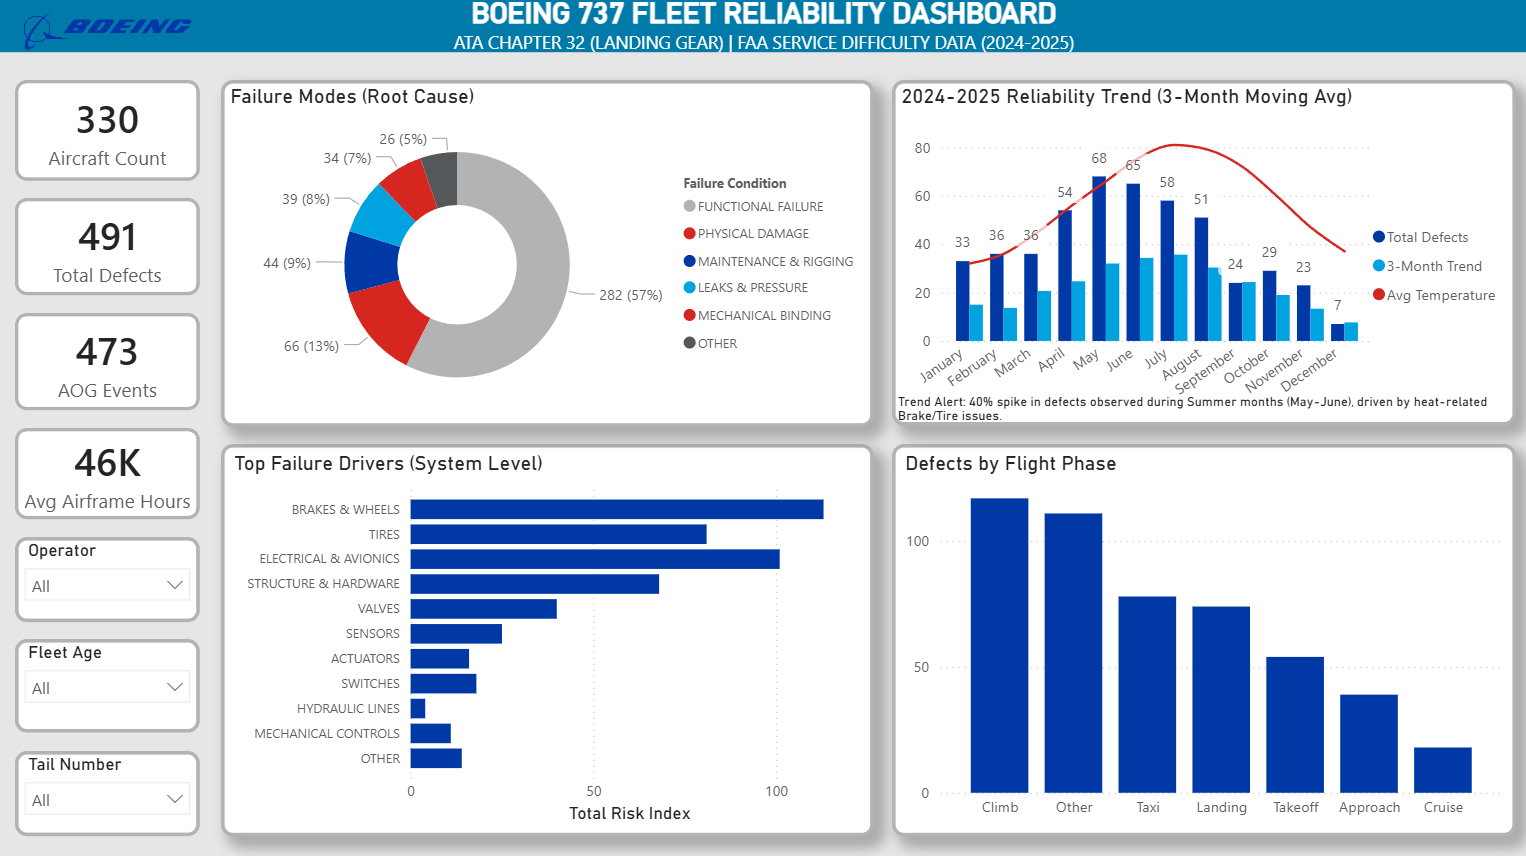

The page's visual inventory and layout, read from the dashboard file:
{"tool":"powerbi","page":{"name":"Main","canvas":[1280,720],"ordinal":0},"visuals":[{"type":"clusteredBarChart","title":"Top Failure Drivers (System Level)","fields":{"Category":["aviation_project sdr_landing_gear.PartName (groups)"],"Y":["_key_measures.Total Defects"]},"box":[187.8,372.2,544.4,326.7],"z":1000},{"type":"slicer","title":"Filter by Operator","fields":{"Values":["aviation_project sdr_landing_gear.OperatorDesignator"]},"box":[16,449.7,154,71],"z":2000},{"type":"donutChart","title":"Failure Modes (Root Cause)","fields":{"Y":["_key_measures.Total Defects"],"Category":["aviation_project sdr_landing_gear.PartCondition (groups)"]},"box":[187.8,68.9,544.4,288.9],"z":3000},{"type":"shape","title":"BOEING 737 FLEET RELIABILITY DASHBOARD","box":[0,0,1280,45.6],"z":4000},{"type":"image","box":[15.6,0,154.4,45.6],"z":5000},{"type":"columnChart","title":"Defects by Flight Phase","fields":{"Y":["_key_measures.Total Defects"],"Category":["aviation_project sdr_landing_gear.StageOfOperationCode (groups)"]},"box":[746.7,372.2,520,326.7],"z":6000},{"type":"cardVisual","fields":{"Data":["_key_measures.Aircraft Count"]},"box":[16,69,154,84],"z":7000},{"type":"cardVisual","title":"Avg. Airframe Hours","fields":{"Data":["_key_measures.Avg Airframe Age"]},"box":[16,359.1,154,76],"z":8000},{"type":"lineClusteredColumnComboChart","title":"2024-2025 Reliability Trend (3-Month Moving Avg)","fields":{"Category":["DateTable.Date.Variation.Date Hierarchy.Month"],"Y":["_key_measures.Total Defects","_key_measures.3-Month Trend"],"Y2":["Sum(US_Temp_Data.AvgTemp)"]},"box":[746.9,69.2,520,288.5],"z":9000},{"type":"cardVisual","fields":{"Data":["_key_measures.Total Defects"]},"box":[15.6,167.6,154.4,81.1],"z":10000},{"type":"slicer","title":"Search Tail Number","fields":{"Values":["aviation_project sdr_landing_gear.RegistryNNumber"]},"box":[16,628,154,71],"z":11000},{"type":"slicer","fields":{"Values":["aviation_project sdr_landing_gear.Fleet Age Group"]},"box":[16,535.4,154,78],"z":12000},{"type":"cardVisual","fields":{"Data":["_key_measures.AOG Events"]},"box":[15.6,263.4,154.4,81.1],"z":13000},{"type":"textbox","title":"Trend Alert: 40% spike in defects observed during Summer months (May-June), driven by heat-related Brake/Tire issues.","box":[746.7,330.7,520,27.3],"z":14000}]}

Visuals, with their boxes in screenshot pixels (x1, y1, x2, y2), scaled from the page's 1280x720 canvas onto the 1526x856 screenshot:
"Top Failure Drivers (System Level)" clusteredBarChart: region(224, 443, 873, 831)
"Filter by Operator" slicer: region(19, 535, 203, 619)
"Failure Modes (Root Cause)" donutChart: region(224, 82, 873, 425)
"BOEING 737 FLEET RELIABILITY DASHBOARD" shape: region(0, 0, 1525, 54)
image: region(19, 0, 203, 54)
"Defects by Flight Phase" columnChart: region(890, 443, 1510, 831)
cardVisual - _key_measures.Aircraft Count: region(19, 82, 203, 182)
"Avg. Airframe Hours" cardVisual: region(19, 427, 203, 517)
"2024-2025 Reliability Trend (3-Month Moving Avg)" lineClusteredColumnComboChart: region(890, 82, 1510, 425)
cardVisual - _key_measures.Total Defects: region(19, 199, 203, 296)
"Search Tail Number" slicer: region(19, 747, 203, 831)
slicer - aviation_project sdr_landing_gear.Fleet Age Group: region(19, 637, 203, 729)
cardVisual - _key_measures.AOG Events: region(19, 313, 203, 410)
"Trend Alert: 40% spike in defects observed during Summer months (May-June), driven by heat-related Brake/Tire issues." textbox: region(890, 393, 1510, 426)
